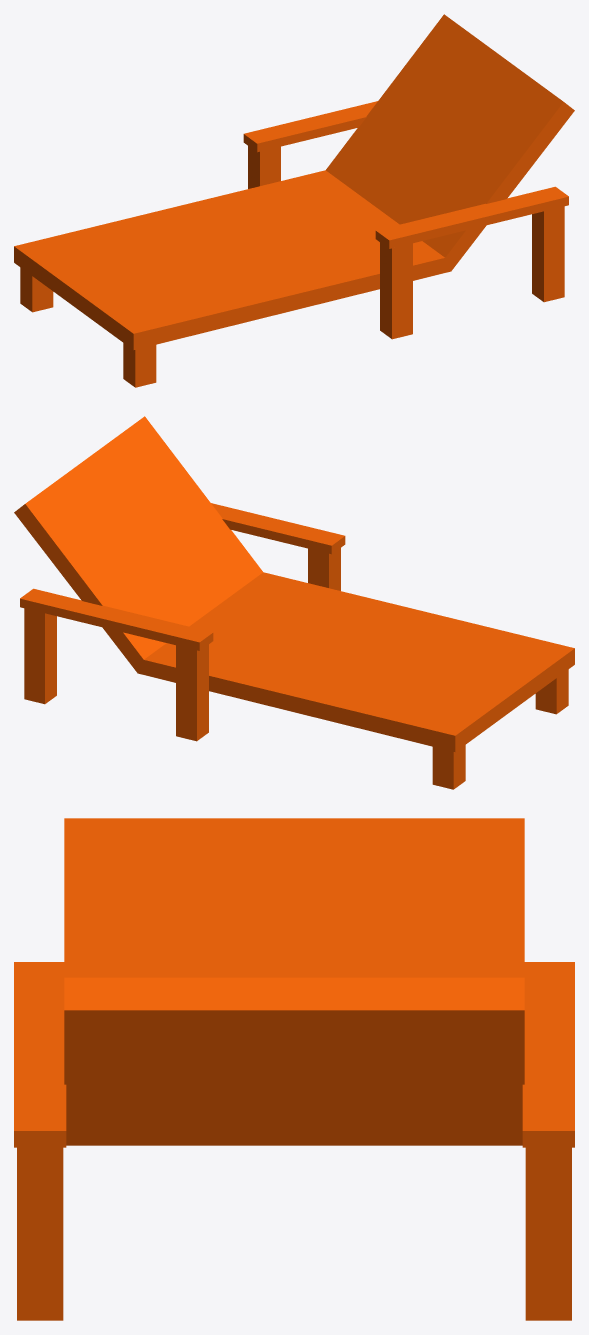
File: pool_chair_01.fbx
The picture shows the model from 3 angles, top to bottom: view 1: azimuth 30°, elevation 25°; view 2: azimuth 150°, elevation 25°; view 3: azimuth 270°, elevation 25°; orthographic projection. The views are drawn at different scales.
Parts seen in each view (by area): view 1: pool_chair_01; view 2: pool_chair_01; view 3: pool_chair_01.
Boxes of the visible parts, x1,y1,x2,y2 form: pool_chair_01: (14, 14, 574, 387); pool_chair_01: (14, 416, 574, 789); pool_chair_01: (14, 818, 574, 1320).
Bounding box in the file's own units: 1.74 × 0.6939 × 0.9975.
